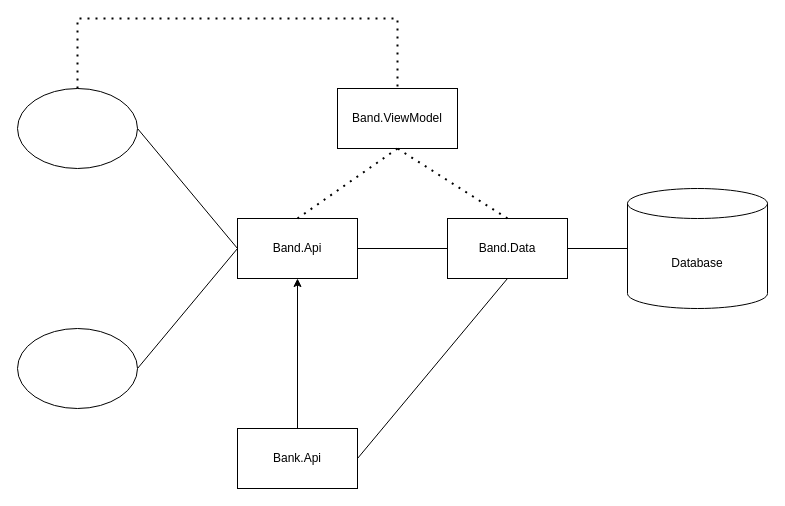
The diagram is 785 pixels wide and 506 high, and some of its shapes have lost their labels. The centre of each missing label's shape, as x and y in pixels:
Desktop Application: point (77, 128)
Webapp: point (77, 368)
